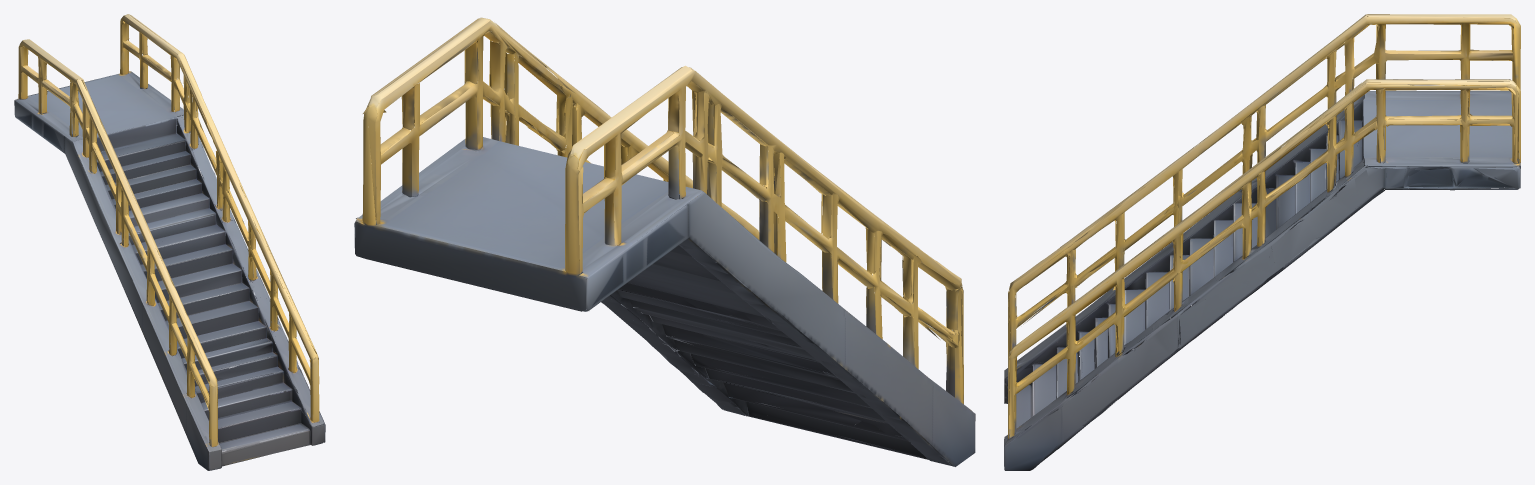
The model's file is stairs.glb.
3 views of the same model, side by side, from view 1: azimuth 30°, elevation 25°; view 2: azimuth 150°, elevation 25°; view 3: azimuth 270°, elevation 25° (orthographic). The views are drawn at different scales.
Visible parts, largest first — view 1: Industrial_stairs; view 2: Industrial_stairs; view 3: Industrial_stairs.
Boxes of the visible parts, <box> form: Industrial_stairs: <box>14,14,325,470</box>; Industrial_stairs: <box>354,17,975,466</box>; Industrial_stairs: <box>1004,14,1520,470</box>.
Bounding box in the file's own units: 1.61 × 3.79 × 4.6.
Materials: 1 (1 with a texture image).
